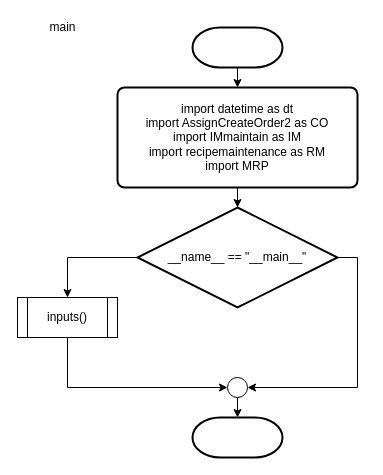
Some shapes in this 383 by 475 pixel diagram are drawn without their labels. The centre of each missing label's shape, as x and y in pixels:
"END" goes at point 237,437.
"START" goes at point 237,47.
